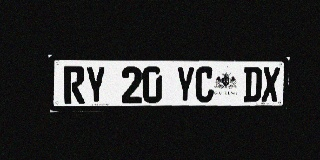0: (142, 66, 162, 103)
2: (122, 66, 142, 103)
C: (195, 67, 214, 103)
D: (243, 67, 262, 102)
R: (63, 66, 85, 104)
X: (261, 67, 280, 102)
Y: (85, 66, 106, 104), (175, 66, 195, 103)
